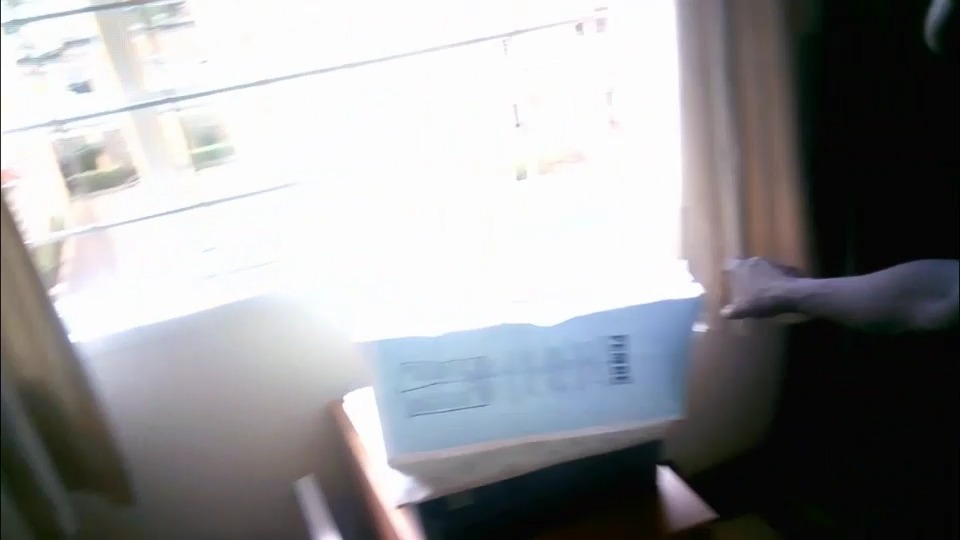wheat_flour_blue_label: (354, 258, 687, 461)
